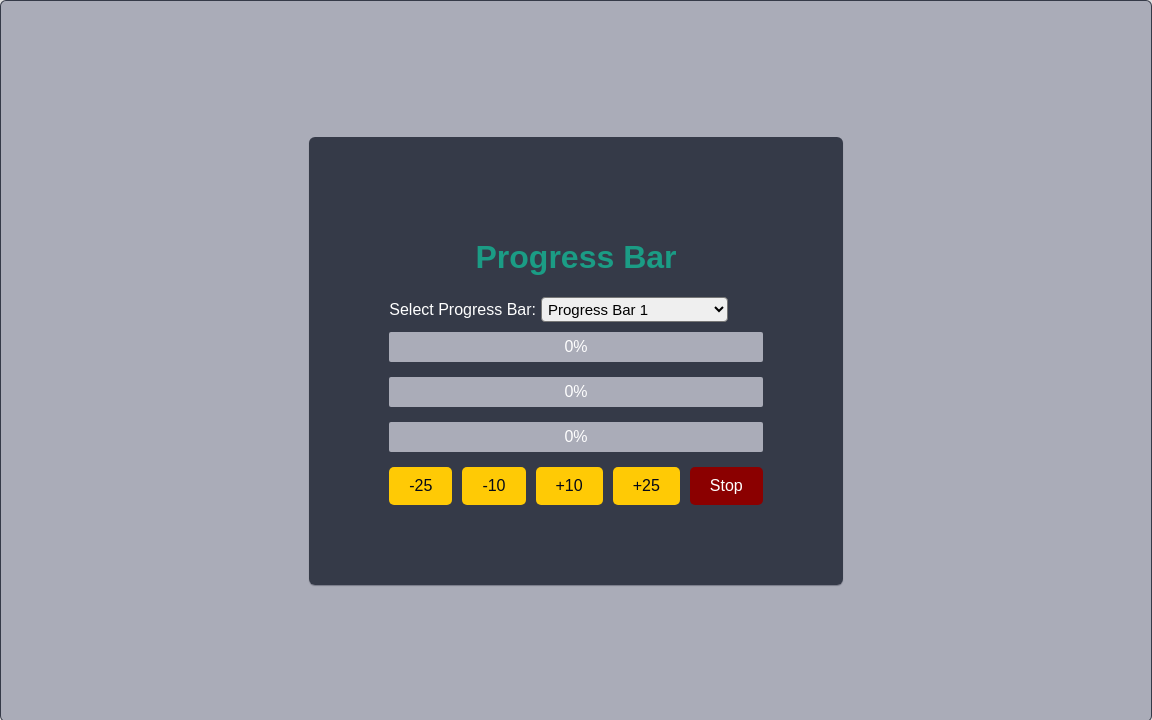
Test: ProgressBar › resumes the progress when "Continue" button is clicked on the warning modal
This screenshot has width=1152, height=720.
Click the button "Stop" at [726, 486], box [690,467,763,505]
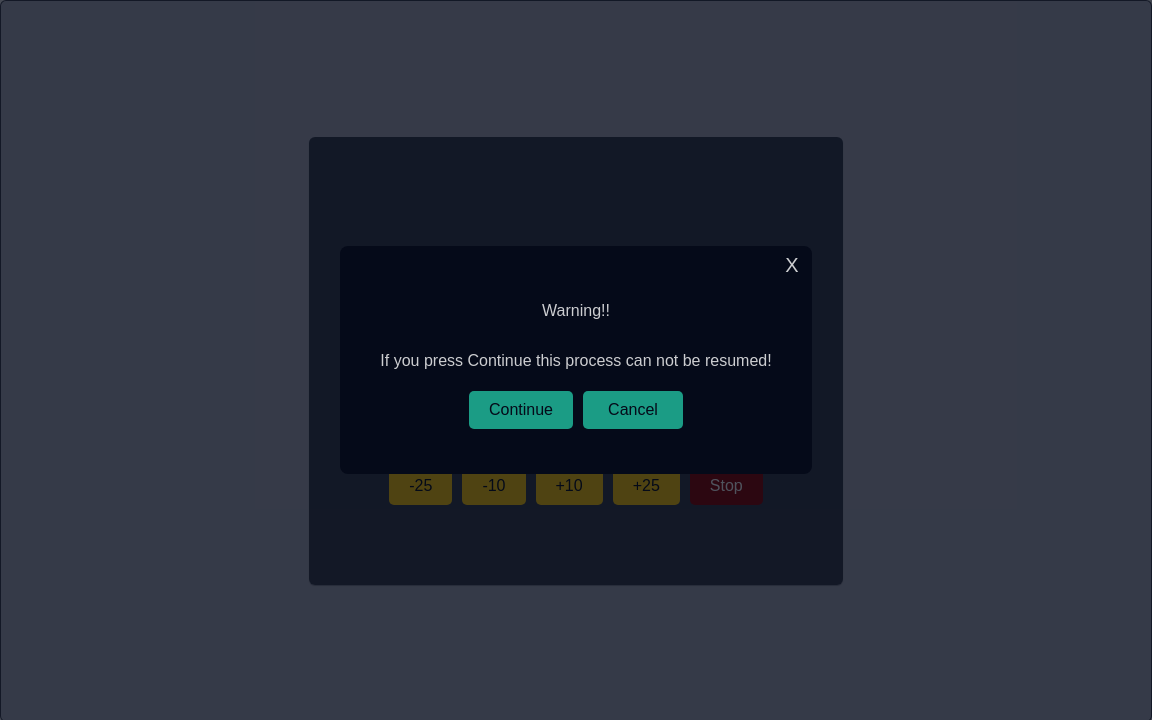
Click the button "Continue" at [521, 410], box [469,391,573,429]
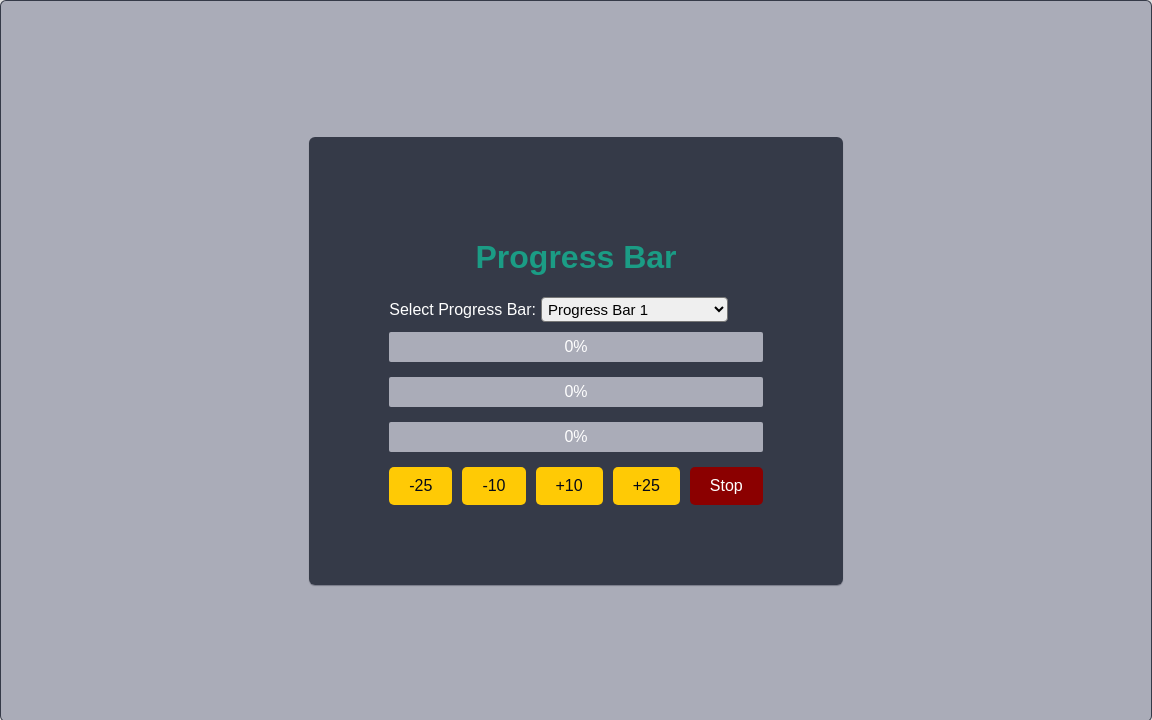
Expected: the text "If you press Continue this process can not be resumed!" is gone
